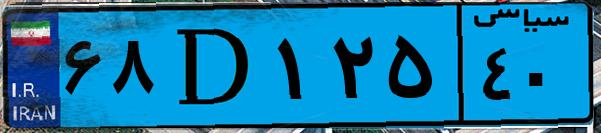0: (525, 38, 570, 115)
1: (270, 28, 330, 110)
2: (330, 28, 385, 110)
4: (475, 38, 525, 113)
5: (385, 28, 445, 110)
6: (57, 26, 110, 100)
8: (110, 28, 158, 98)
D: (158, 12, 270, 120)
